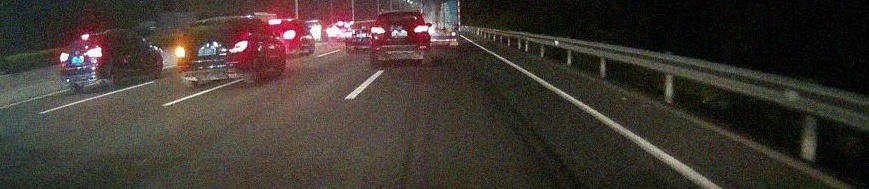L_light: (175, 46, 187, 59), (371, 27, 384, 34), (60, 52, 69, 62)
R_light: (228, 41, 248, 54), (85, 47, 102, 57), (414, 26, 427, 33)
T_light: (212, 21, 225, 24), (81, 35, 89, 38), (394, 12, 404, 14)
night-brake: (59, 30, 108, 90)
night-no: (175, 16, 252, 87), (370, 9, 429, 65)
